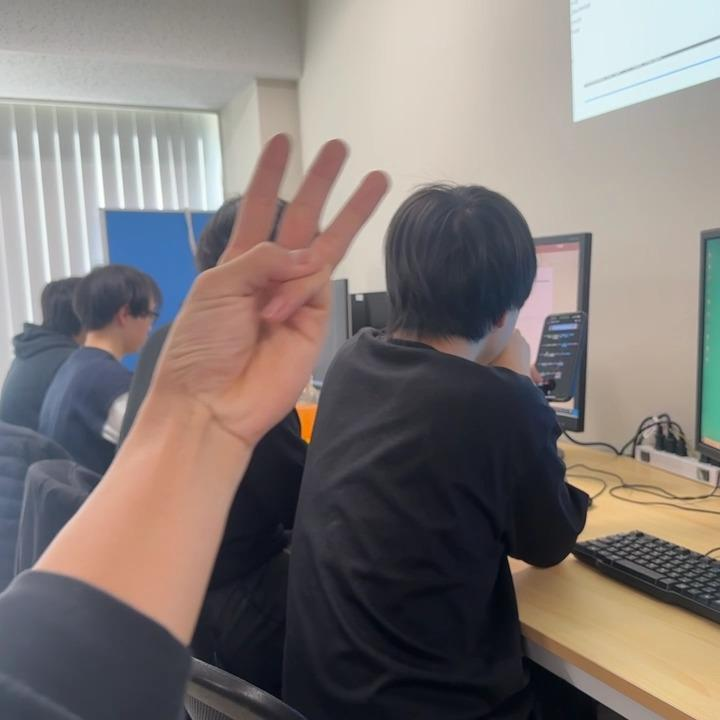without_gloves: (165, 139, 400, 442)
